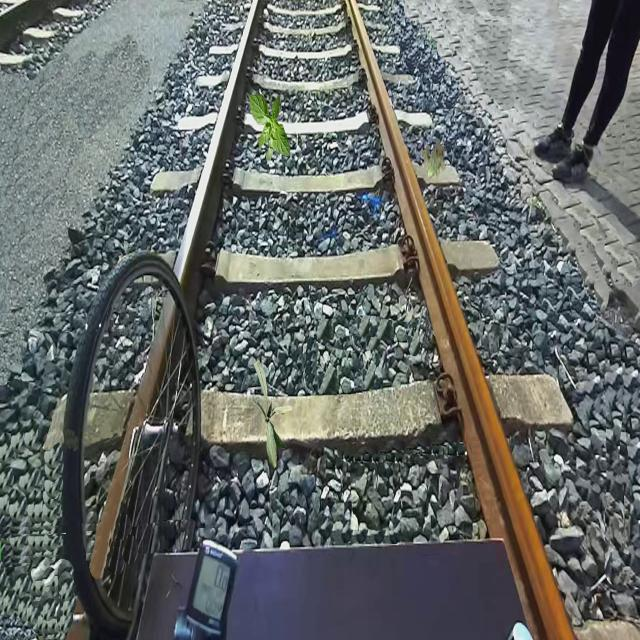Plant: (253, 359, 293, 469), (249, 92, 290, 163), (420, 139, 446, 182)
